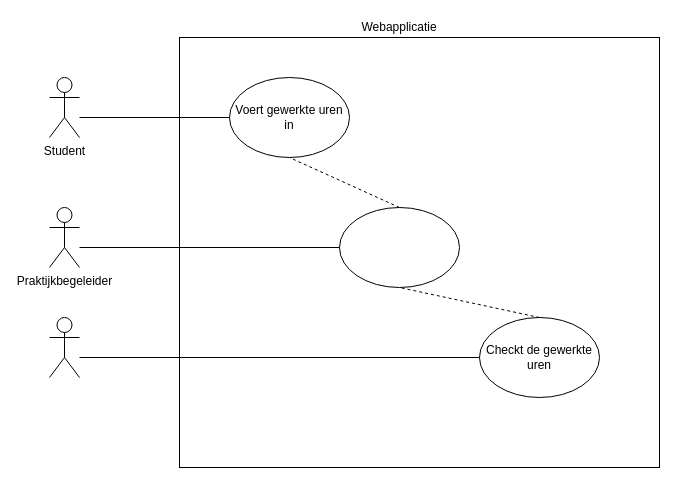
Image size: 677x485. Some labels were removed from this diagram. Here are the shapes that lost their labels. From the top down, the box of each, then its label:
(338, 206, 460, 288): Keurt de gewerkte uren goed
(48, 316, 80, 378): Stagedocent
